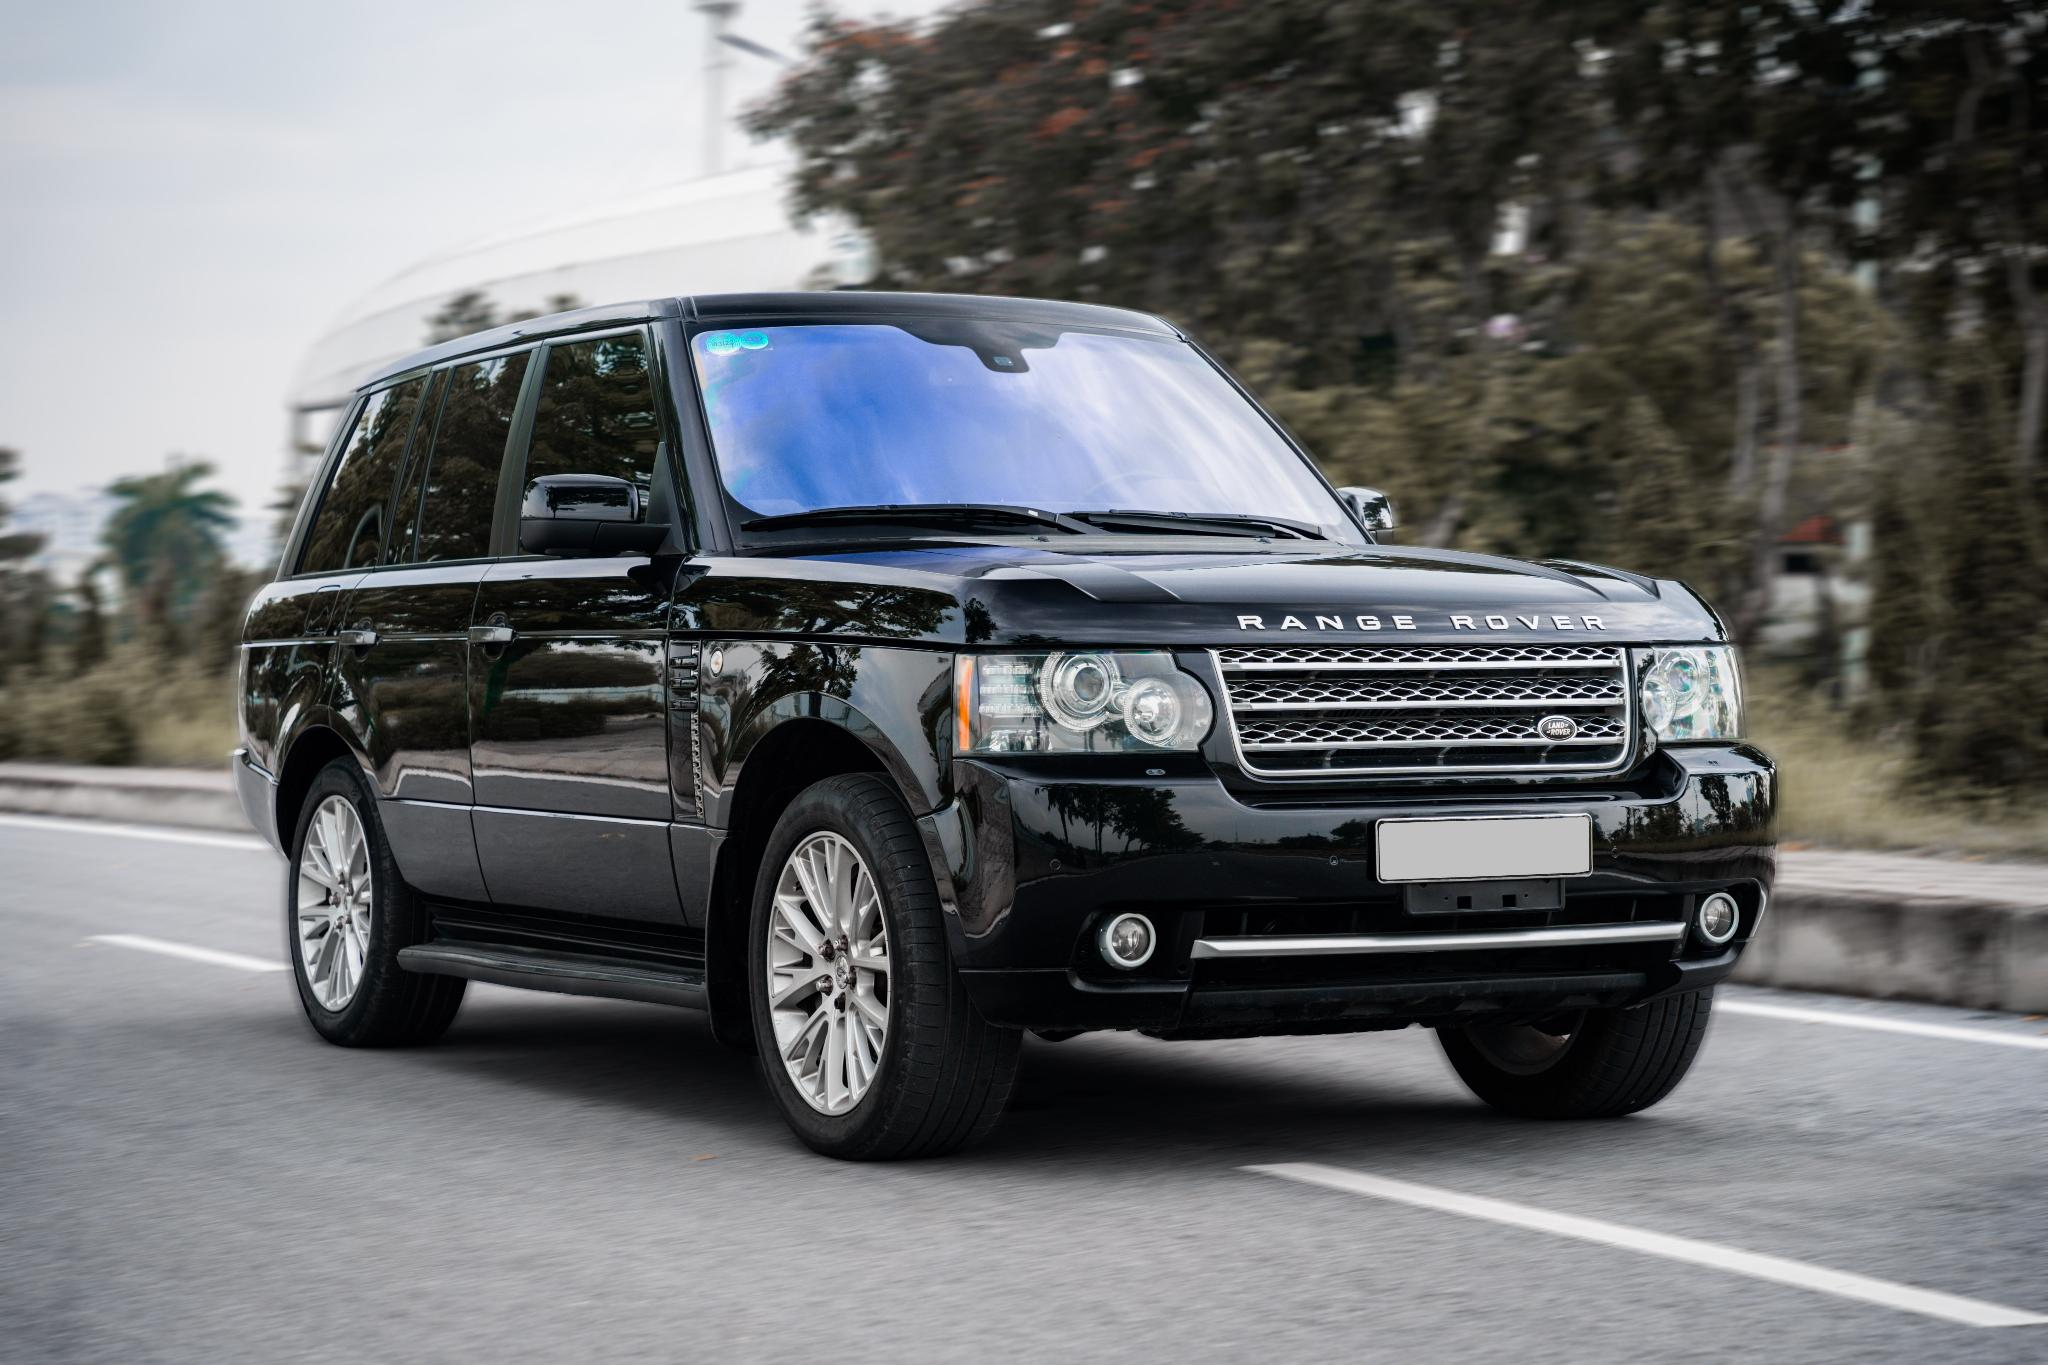range rover: (1224, 597, 1622, 646)
